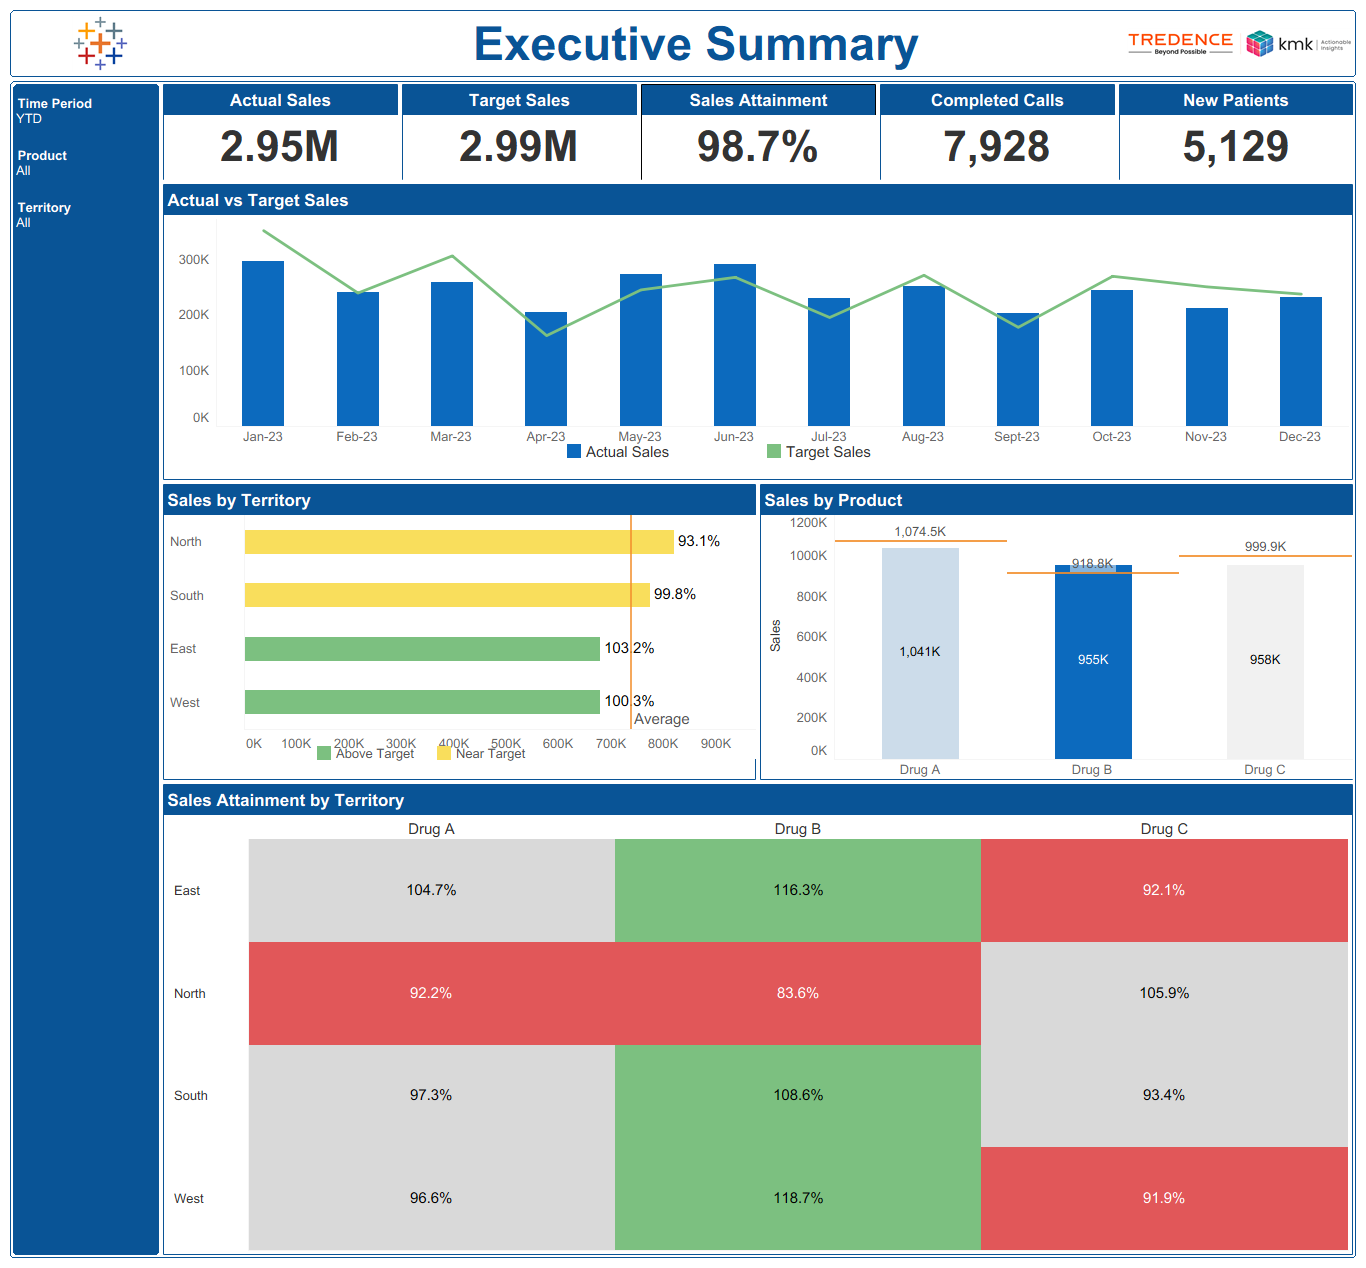

What the dashboard file says about the page in this screenshot:
{"tool":"tableau","page":{"name":"Executive Dashboard","canvas":[1366,1268],"ordinal":1},"visuals":[{"type":"image","param":"Image/Tableau.png","box":[11,11,180,65]},{"type":"text","box":[191,11,932,65]},{"type":"image","param":"Image/tredence-logo-kmk.png","box":[1123,11,232,65]},{"type":"parameter","param":"[Parameters].[Parameter 1025046070018058]","box":[14,85,144,52]},{"type":"text","box":[164,85,233,30]},{"type":"text","box":[403,85,233,30]},{"type":"text","box":[642,85,233,30]},{"type":"text","box":[881,85,233,30]},{"type":"text","box":[1120,85,232,30]},{"type":"worksheet","title":"KPI- Actual Sales","mark":"Text","box":[164,115,233,64]},{"type":"worksheet","title":"KPI- Target Sales","mark":"Text","box":[403,115,233,64]},{"type":"worksheet","title":"KPI- Sales Attainment %","mark":"Text","box":[642,115,233,64]},{"type":"worksheet","title":"KPI- Completed Calls","mark":"Text","box":[881,115,233,64]},{"type":"worksheet","title":"KPI- New Patients","mark":"Text","box":[1120,115,232,64]},{"type":"filter","title":"Monthly Sales Trend","param":"[federated.0lpo7461ihcmnp0zxqhoc1q06l74].[none:PRODUCT:nk]","box":[14,137,144,52]},{"type":"text","box":[164,185,1188,30]},{"type":"filter","title":"Monthly Sales Trend","param":"[federated.0lpo7461ihcmnp0zxqhoc1q06l74].[none:TERRITORY_NAME:nk]","box":[14,189,144,52]},{"type":"worksheet","title":"Monthly Sales Trend","mark":"Line","rows":["ACTUAL_SALES","TARGET_SALES"],"cols":["FINAL_MONTH_SALES"],"box":[164,215,1188,244]},{"type":"legend","title":"Monthly Sales Trend","param":"[federated.0lpo7461ihcmnp0zxqhoc1q06l74].[:Measure Names]","box":[164,459,1188,20]},{"type":"text","box":[164,485,591,30]},{"type":"text","box":[761,485,591,30]},{"type":"worksheet","title":"Territory Performance","mark":"Bar","rows":["Calculation_1025046051995650"],"cols":["ACTUAL_SALES"],"box":[164,515,591,244]},{"type":"worksheet","title":"Product Performance","mark":"Bar","rows":["ACTUAL_SALES"],"cols":["PRODUCT"],"box":[761,515,591,264]},{"type":"legend","title":"Territory Performance","param":"[federated.0lpo7461ihcmnp0zxqhoc1q06l74].[usr:Calculation_1025046096502801:nk]","box":[164,759,591,20]},{"type":"text","box":[164,785,1188,30]},{"type":"worksheet","title":"Sales Attainment Matrix","mark":"Square","rows":["TERRITORY_NAME"],"cols":["PRODUCT"],"box":[164,815,1188,439]}]}

Visuals, with their boxes in screenshot pixels (x1, y1, x2, y2), scaled from the page's 1366x1268 canvas onto the 1366x1268 screenshot:
image: pyautogui.locateOnScreen(11, 11, 191, 76)
text: pyautogui.locateOnScreen(191, 11, 1123, 76)
image: pyautogui.locateOnScreen(1123, 11, 1355, 76)
parameter: pyautogui.locateOnScreen(14, 85, 158, 137)
text: pyautogui.locateOnScreen(164, 85, 397, 115)
text: pyautogui.locateOnScreen(403, 85, 636, 115)
text: pyautogui.locateOnScreen(642, 85, 875, 115)
text: pyautogui.locateOnScreen(881, 85, 1114, 115)
text: pyautogui.locateOnScreen(1120, 85, 1352, 115)
"KPI- Actual Sales" worksheet (Text marks): pyautogui.locateOnScreen(164, 115, 397, 179)
"KPI- Target Sales" worksheet (Text marks): pyautogui.locateOnScreen(403, 115, 636, 179)
"KPI- Sales Attainment %" worksheet (Text marks): pyautogui.locateOnScreen(642, 115, 875, 179)
"KPI- Completed Calls" worksheet (Text marks): pyautogui.locateOnScreen(881, 115, 1114, 179)
"KPI- New Patients" worksheet (Text marks): pyautogui.locateOnScreen(1120, 115, 1352, 179)
"Monthly Sales Trend" filter: pyautogui.locateOnScreen(14, 137, 158, 189)
text: pyautogui.locateOnScreen(164, 185, 1352, 215)
"Monthly Sales Trend" filter: pyautogui.locateOnScreen(14, 189, 158, 241)
"Monthly Sales Trend" worksheet (Line marks): pyautogui.locateOnScreen(164, 215, 1352, 459)
"Monthly Sales Trend" legend: pyautogui.locateOnScreen(164, 459, 1352, 479)
text: pyautogui.locateOnScreen(164, 485, 755, 515)
text: pyautogui.locateOnScreen(761, 485, 1352, 515)
"Territory Performance" worksheet (Bar marks): pyautogui.locateOnScreen(164, 515, 755, 759)
"Product Performance" worksheet (Bar marks): pyautogui.locateOnScreen(761, 515, 1352, 779)
"Territory Performance" legend: pyautogui.locateOnScreen(164, 759, 755, 779)
text: pyautogui.locateOnScreen(164, 785, 1352, 815)
"Sales Attainment Matrix" worksheet (Square marks): pyautogui.locateOnScreen(164, 815, 1352, 1254)
